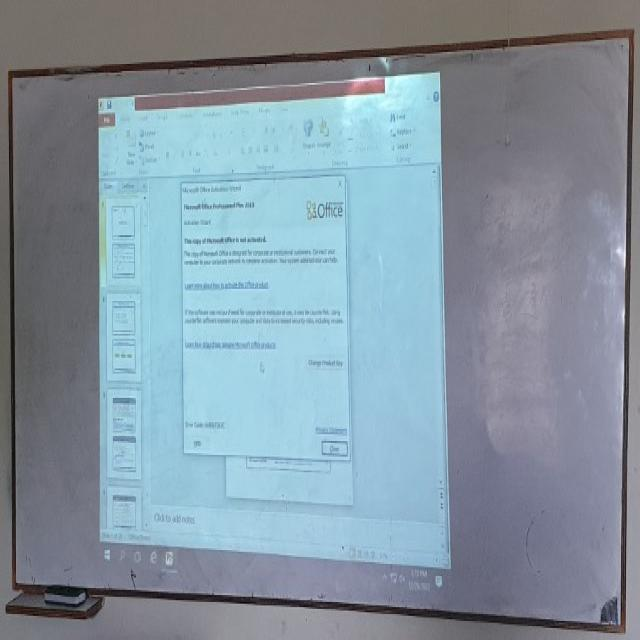Slide: (97, 72, 454, 610)
White-board: (12, 31, 633, 629)
